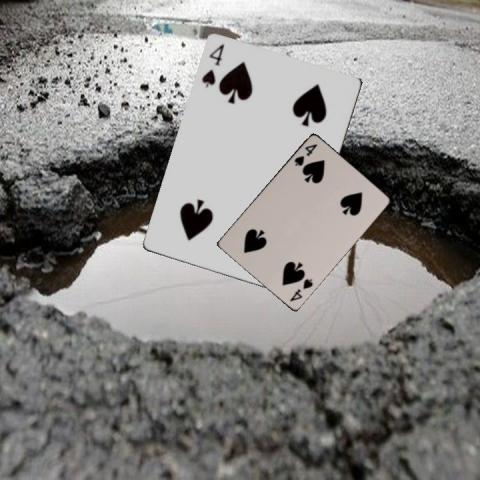4s: (199, 41, 226, 90), (287, 275, 314, 303), (291, 141, 319, 167)
